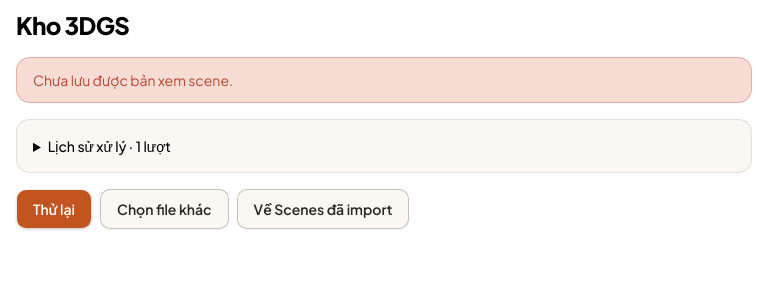
Test case: ImportScenePage durable lifecycle › retries only the failed scene and returns to worker progress
expect the text "Chưa lưu được bản xem scene." is shown: met, box x1=33 y1=70 x2=233 y2=90
expect the heading "Lịch sử xử lý · 1 lượt" is shown: met, box x1=48 y1=137 x2=171 y2=155
Click the button "Thử lại" at (54, 209), box x1=16 y1=189 x2=92 y2=229
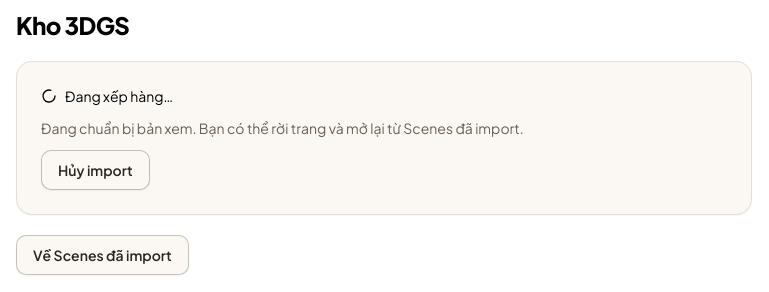
expect the text "Đang xếp hàng…" is shown: met, box x1=41 y1=87 x2=173 y2=105
